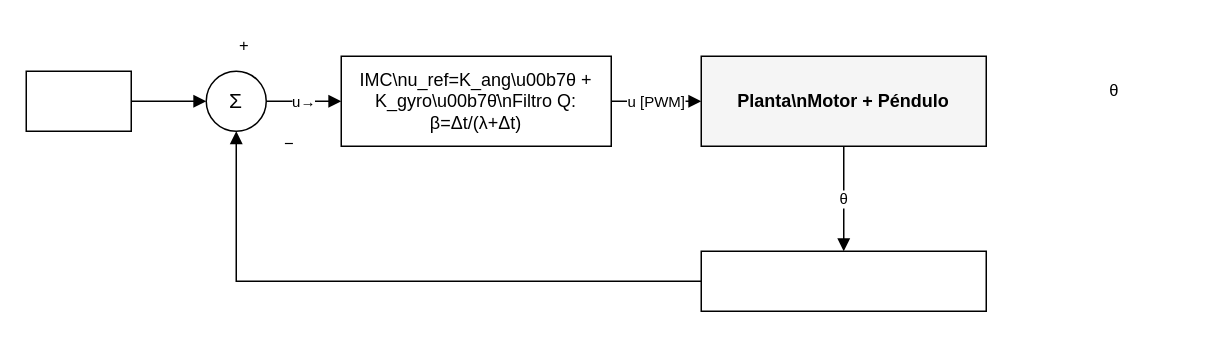
This 1208x338 diagram has some shape labels left out. Each missing label, with the centre of its shape:
"Sensor MPU6050 ( θ )" goes at (x=843, y=280).
"θ_ref = 0" goes at (x=78, y=100).
